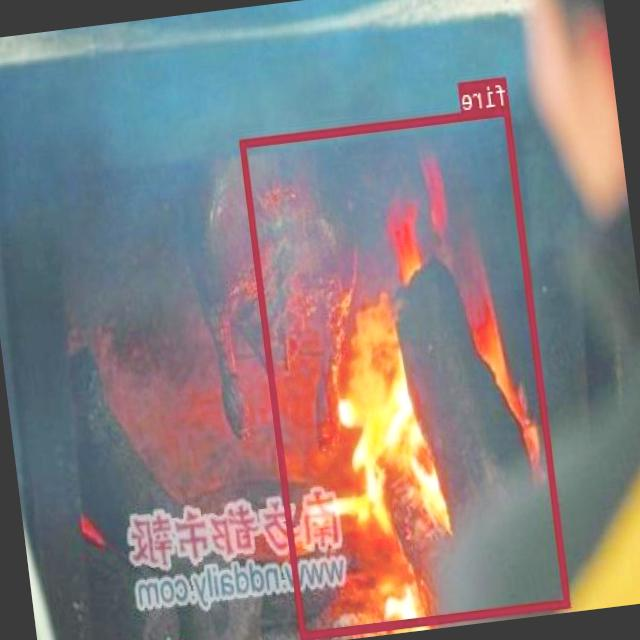fire: (240, 105, 571, 638)
